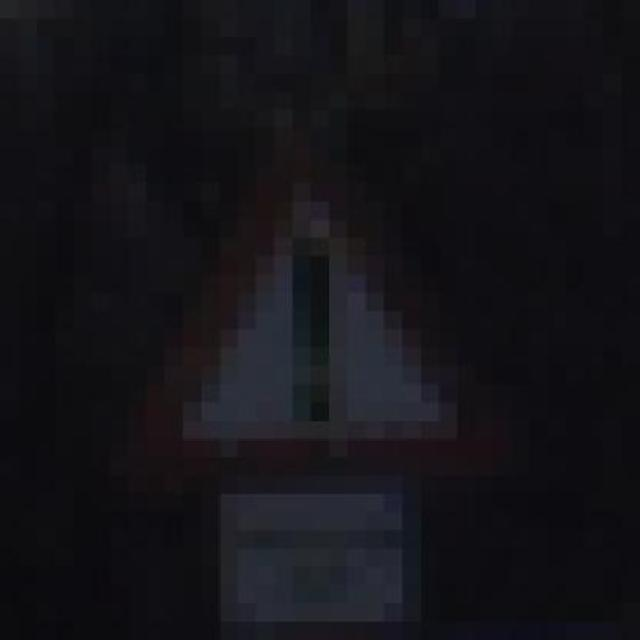Attention Please-: (86, 146, 526, 512)
